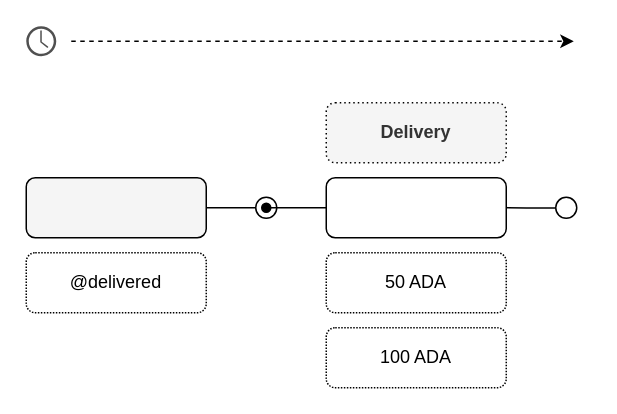
The diagram is 617 pixels wide and 414 high, and some of its shapes have lost their labels. Each missing label, with the box of its shape:
Script: (325, 176, 506, 238)
Seller: (25, 176, 206, 238)
